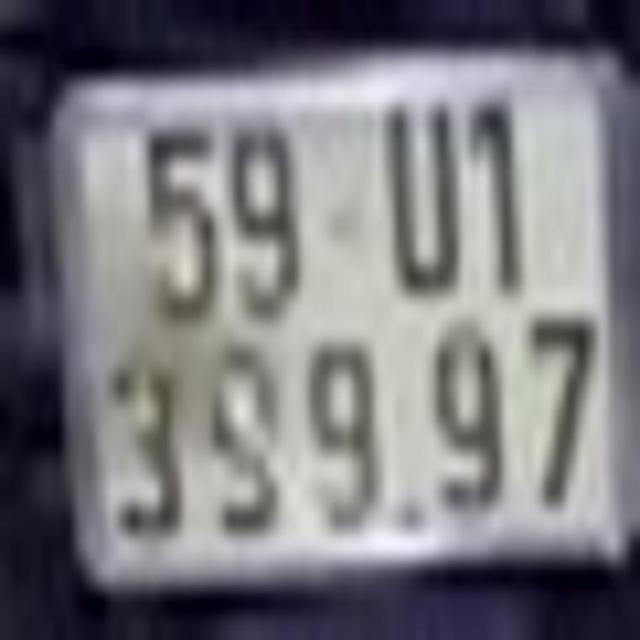1: (466, 97, 522, 297)
3: (105, 354, 186, 537)
5: (146, 133, 216, 324)
7: (530, 313, 594, 521)
9: (308, 337, 383, 536), (208, 338, 282, 537), (228, 128, 302, 321), (430, 320, 500, 522)
U: (386, 103, 460, 296)
